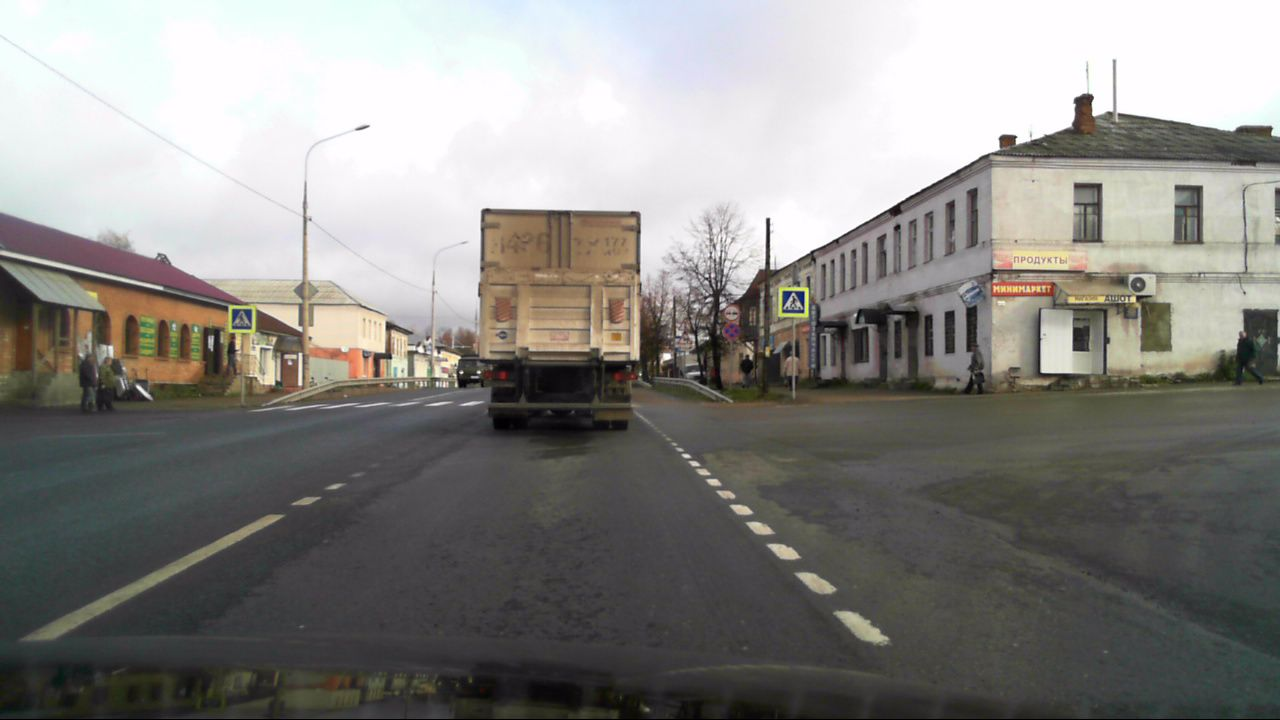No Parking: (722, 321, 739, 339)
